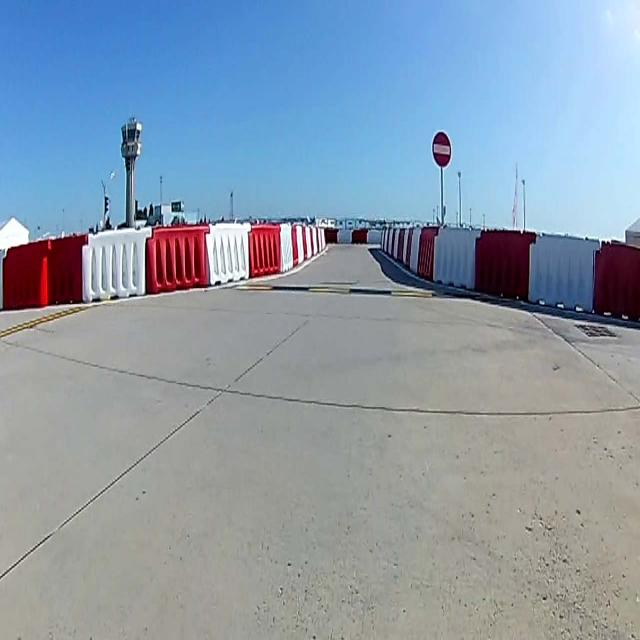girisyok: (432, 129, 452, 170)
